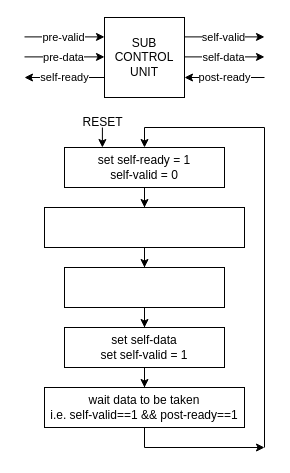
The diagram is 290 pixels wide and 473 high, and some of its shapes have lost their labels. The centre of each missing label's shape, as x and y in pixels:
"set self-ready = 0 handle pre-data" goes at point 144,287.
"wait pre-stage handle finish i.e. pre-valid == 1" goes at point 144,227.
